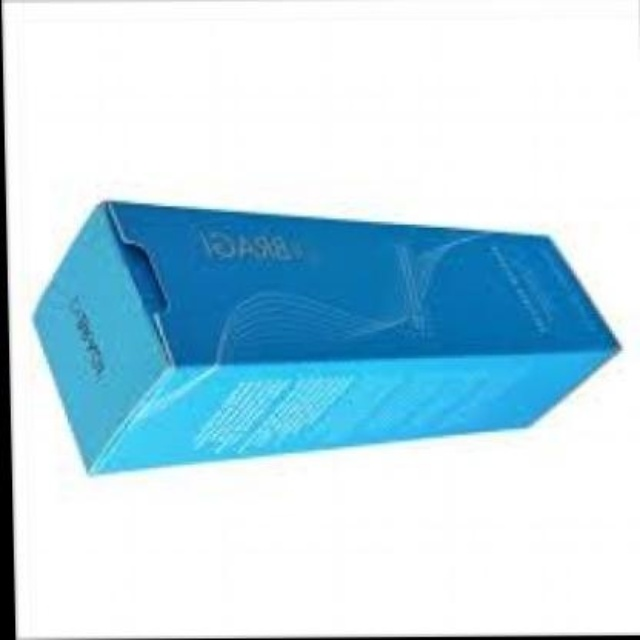trash: (35, 202, 617, 471)
